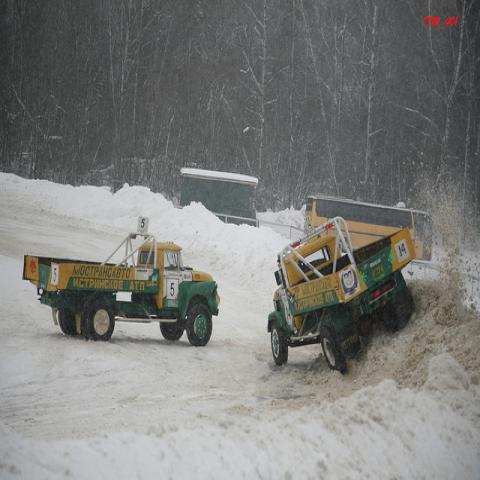bus: (301, 194, 434, 263), (180, 169, 258, 232)
truck: (267, 215, 416, 379), (22, 235, 219, 348)
